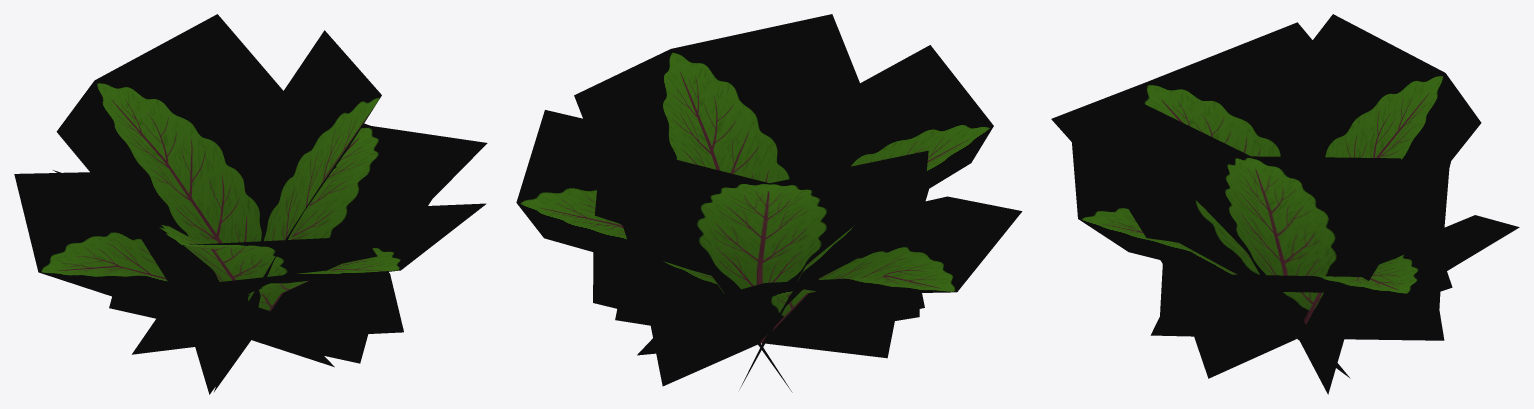
Rendered from BeetPlant02.fbx.
The picture shows the model from 3 angles, left to right: view 1: azimuth 30°, elevation 25°; view 2: azimuth 150°, elevation 25°; view 3: azimuth 270°, elevation 25°; orthographic projection. The views are drawn at different scales.
Visible parts, largest first — view 1: BeetPlant02_LOD0; view 2: BeetPlant02_LOD0; view 3: BeetPlant02_LOD0.
Boxes of the visible parts, bbox=[...] form: BeetPlant02_LOD0: bbox=[14, 14, 487, 394]; BeetPlant02_LOD0: bbox=[516, 14, 1022, 392]; BeetPlant02_LOD0: bbox=[1051, 14, 1519, 394].
Size of what is drawn, in the model's own units: 45.81 by 25.82 by 44.23.
